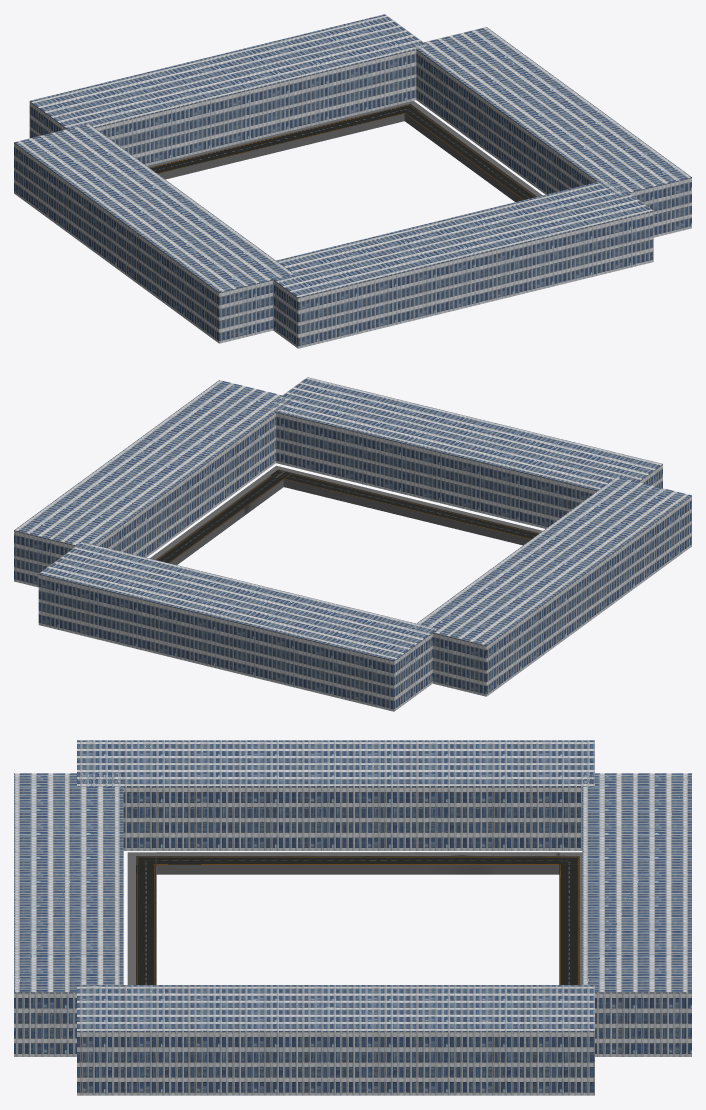
File: street.fbx
3 views of the same model, one above another, from view 1: azimuth 30°, elevation 25°; view 2: azimuth 150°, elevation 25°; view 3: azimuth 270°, elevation 25° (orthographic). The views are drawn at different scales.
Visible parts, largest first — view 1: building1, building3, building4, building2, right, bot; view 2: building3, building1, building4, building2, left, bot; view 3: building2, building4, building3, building1, top, left, right.
Part boxes in pixels (x1,y1,x2,y2): building1: [273, 179, 653, 348]; building3: [29, 14, 427, 165]; building4: [14, 124, 294, 343]; building2: [413, 27, 691, 237]; right: [147, 105, 404, 179]; bot: [404, 108, 542, 201]; building3: [38, 542, 437, 711]; building1: [264, 377, 662, 528]; building4: [412, 477, 691, 696]; building2: [14, 380, 293, 587]; left: [283, 470, 542, 545]; bot: [150, 474, 283, 564]; building2: [77, 985, 594, 1095]; building4: [77, 740, 594, 850]; building3: [582, 773, 691, 1056]; building1: [14, 773, 123, 1056]; top: [156, 852, 559, 874]; left: [127, 864, 156, 984]; right: [559, 864, 582, 984].
Bounding box in the file's own units: 9658 × 1182 × 9509.
5 materials, 5 textured.
